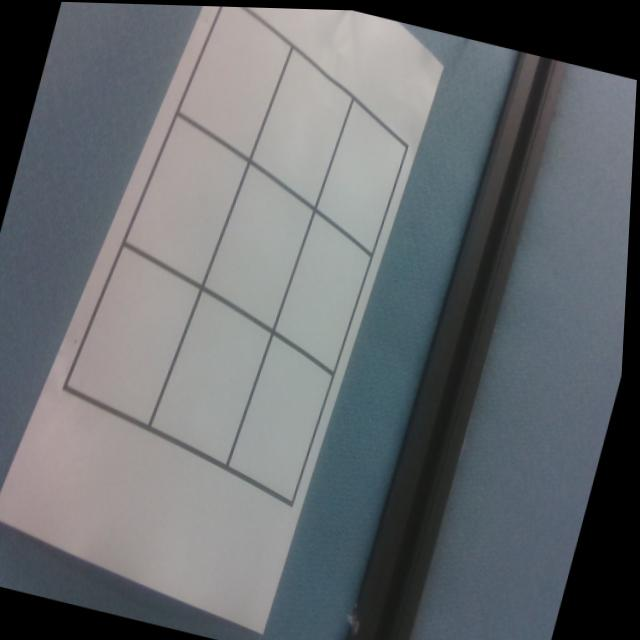null: (65, 239, 208, 431), (148, 284, 279, 466), (123, 112, 257, 287), (199, 160, 323, 330), (227, 330, 344, 505), (174, 4, 296, 154), (272, 208, 382, 372), (246, 45, 359, 202), (309, 94, 417, 256)
table: (45, 2, 442, 520)
